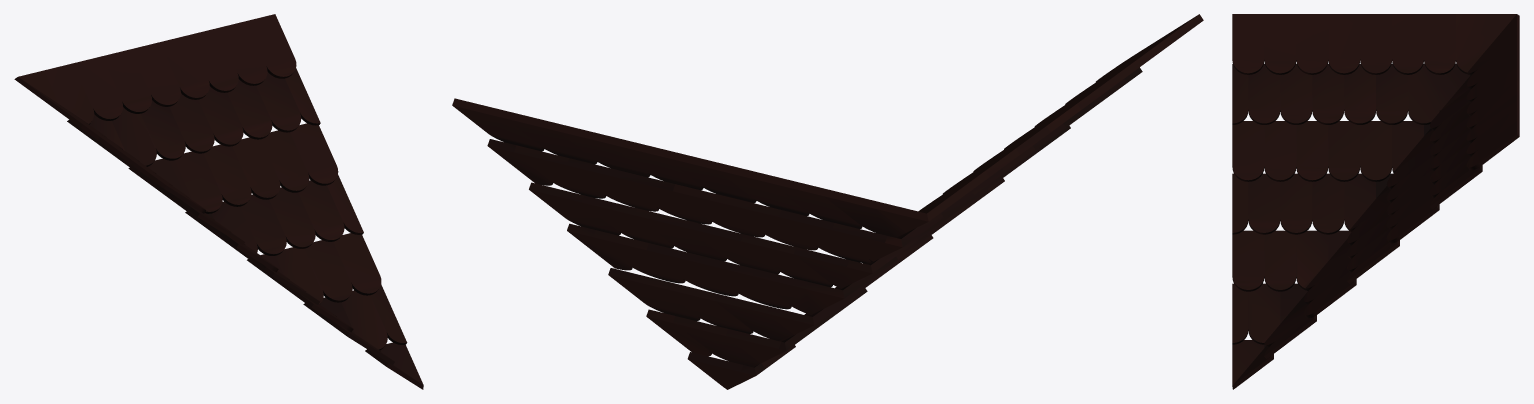
File: Roof_Corner_Concave.fbx
3 renders of one model, left to right at view 1: azimuth 30°, elevation 25°; view 2: azimuth 150°, elevation 25°; view 3: azimuth 270°, elevation 25°, orthographic. The views are drawn at different scales.
Parts seen in each view (by area): view 1: Roof_Corner_Concave; view 2: Roof_Corner_Concave; view 3: Roof_Corner_Concave.
Boxes of the visible parts, bbox=[...] form: Roof_Corner_Concave: bbox=[14, 14, 423, 389]; Roof_Corner_Concave: bbox=[452, 14, 1203, 389]; Roof_Corner_Concave: bbox=[1232, 14, 1519, 389].
Bounding box in the file's own units: 100 × 98.38 × 100.
